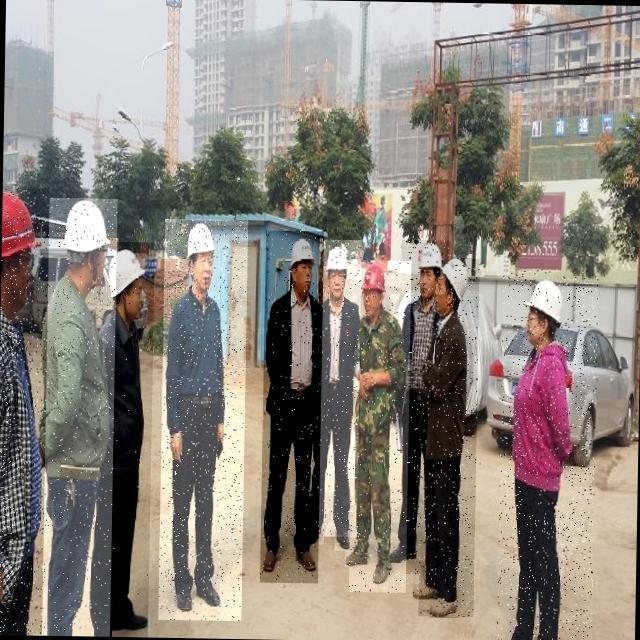Helmet: (1, 192, 44, 261), (61, 199, 110, 253), (520, 280, 565, 329), (109, 250, 148, 299), (440, 257, 471, 303), (189, 223, 220, 260), (289, 237, 316, 271), (364, 265, 390, 292), (417, 242, 443, 269), (325, 251, 349, 280)
Person: (155, 198, 248, 624), (35, 192, 118, 640), (168, 197, 245, 621), (407, 246, 488, 627), (92, 225, 156, 640), (509, 266, 576, 640), (263, 219, 325, 619), (346, 239, 412, 600), (0, 172, 45, 640), (395, 233, 450, 579), (314, 228, 365, 573)
Safety Boot: (112, 612, 150, 631), (197, 582, 224, 608), (429, 596, 459, 618), (373, 553, 394, 584), (345, 544, 372, 567), (392, 542, 418, 563), (295, 548, 318, 570), (178, 586, 197, 612), (413, 584, 441, 600), (334, 531, 351, 551), (263, 548, 277, 571), (306, 528, 323, 544)
bare-arms: (352, 367, 380, 407), (168, 429, 192, 467), (210, 419, 228, 455)
no-vest: (41, 274, 112, 487), (2, 309, 47, 604), (507, 349, 577, 495), (415, 319, 473, 465), (350, 314, 412, 434), (266, 294, 324, 418), (169, 295, 231, 411), (106, 315, 148, 470), (321, 299, 360, 393), (400, 299, 434, 402)
